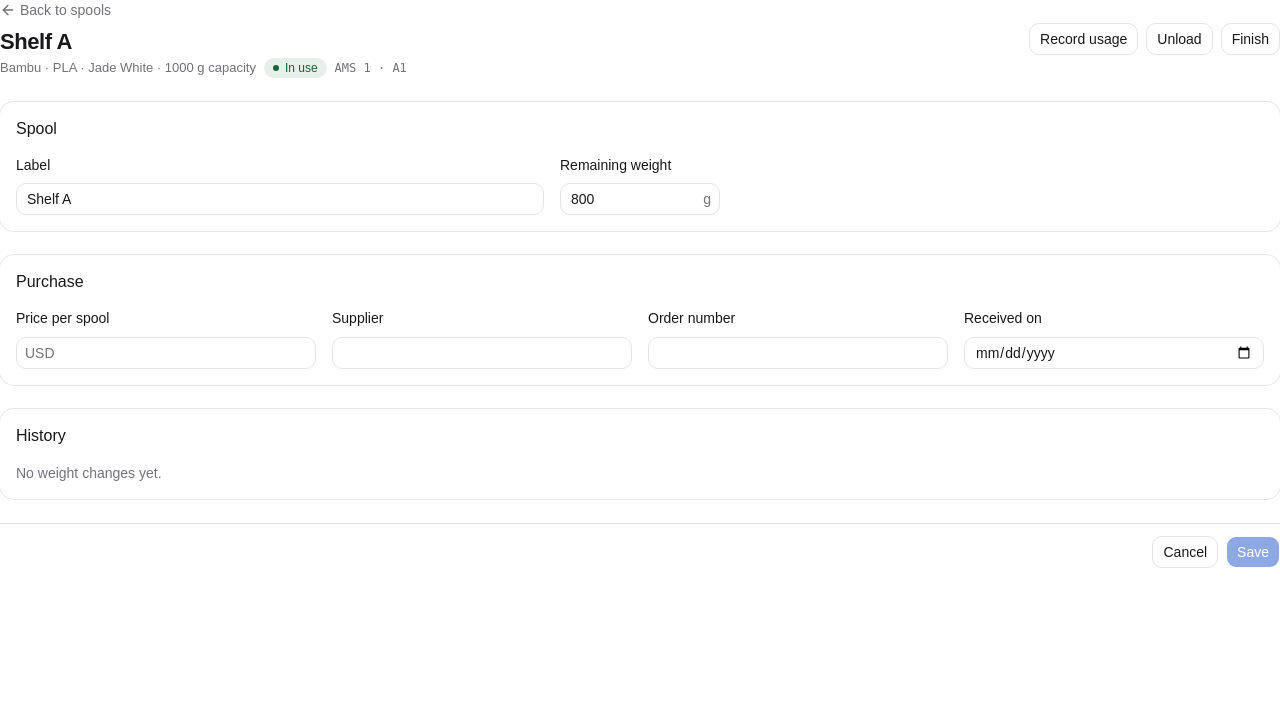
SpoolDetailPage › finishes the spool from its page, writing off what is left
Step 1. Click the button "Finish" → [1250, 39], box [1221,23,1279,55]
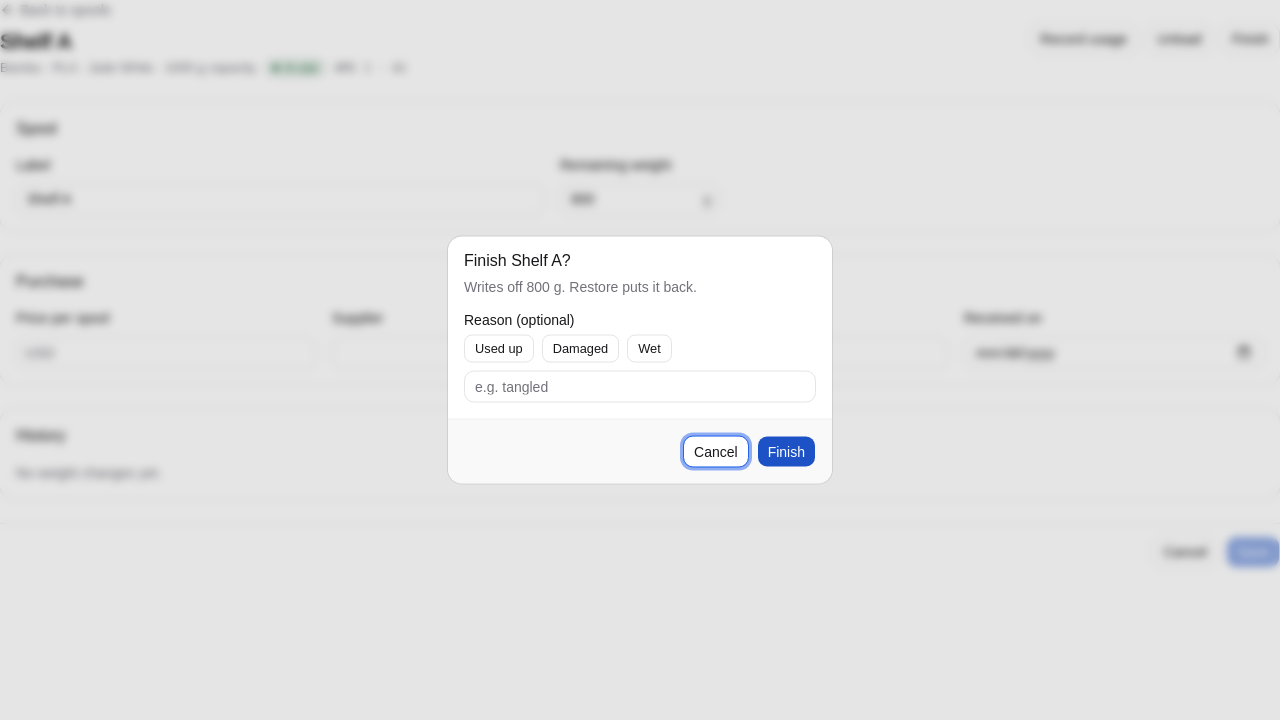
Expected: the dialog shows "Finish Shelf A?", [464,252,571,268]
Expected: the dialog shows "Writes off 800 g.", [464,278,697,294]
Step 2. Type "tangled" into the field → [640, 386], box [464,370,816,402]
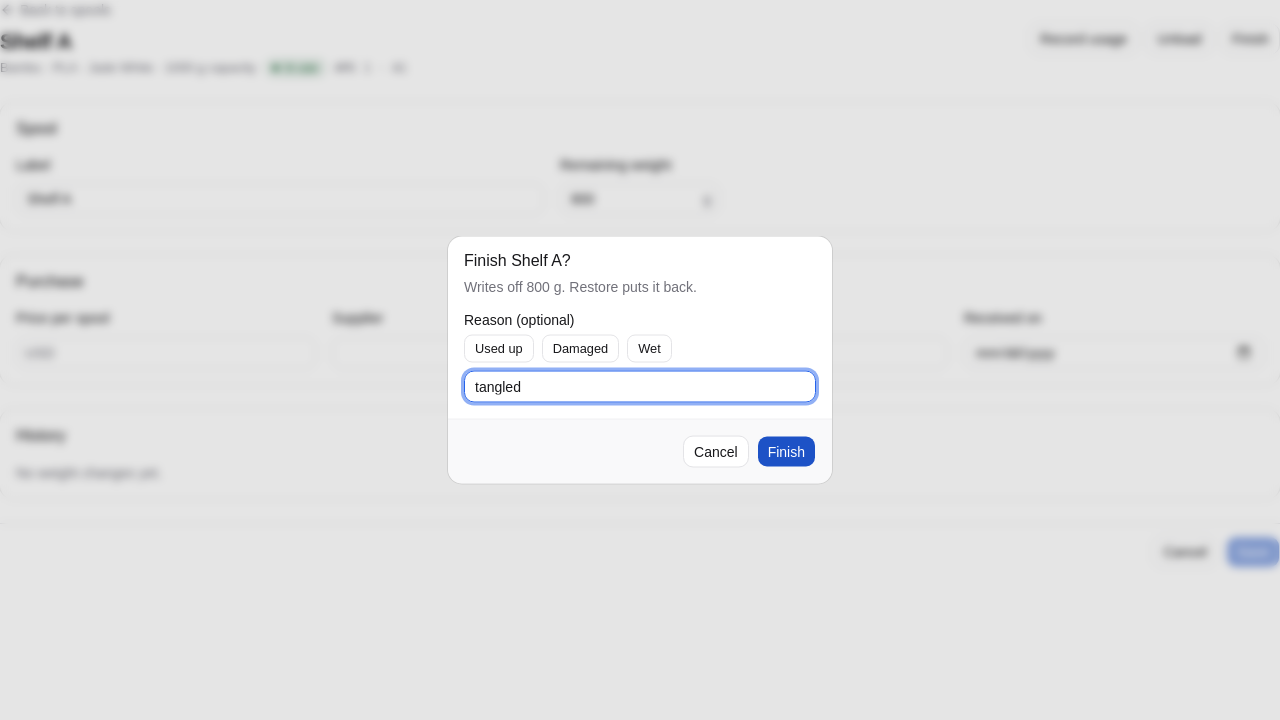
Step 3. Click the button "Finish" → [786, 452], box [757,436,816,468]
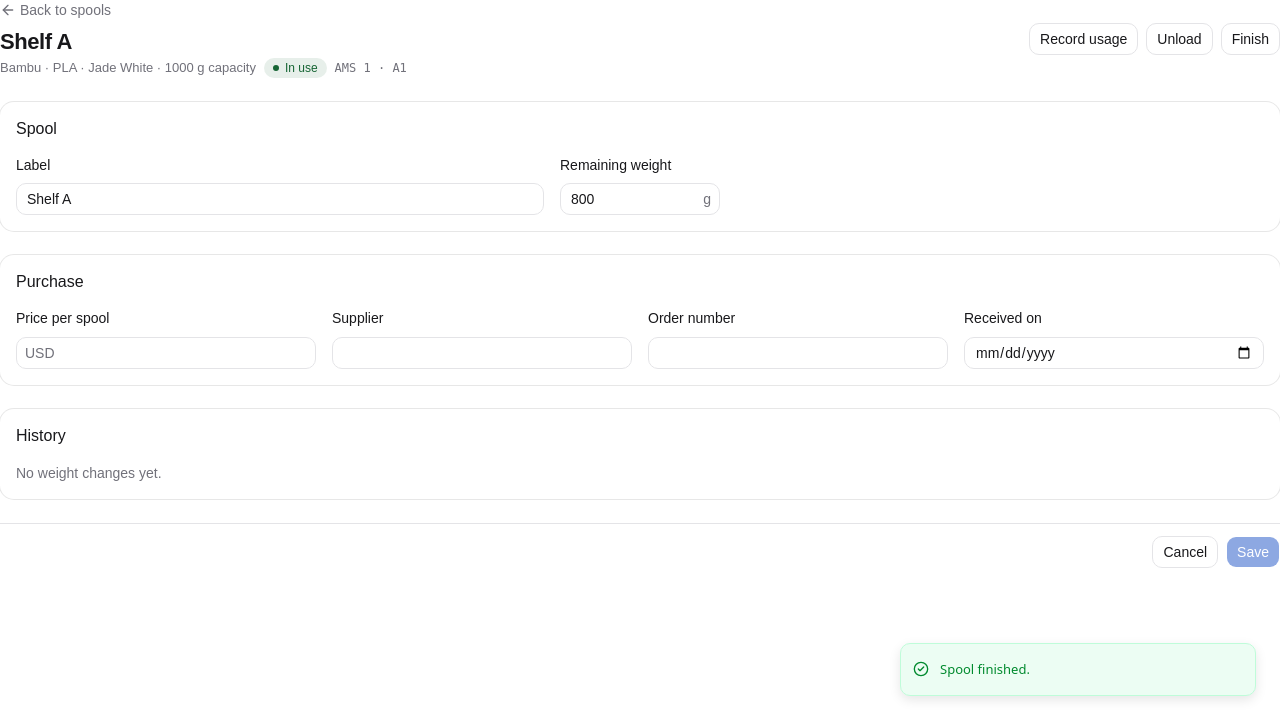
Expected: the text "Spool finished." is shown, [940,660,1030,679]
